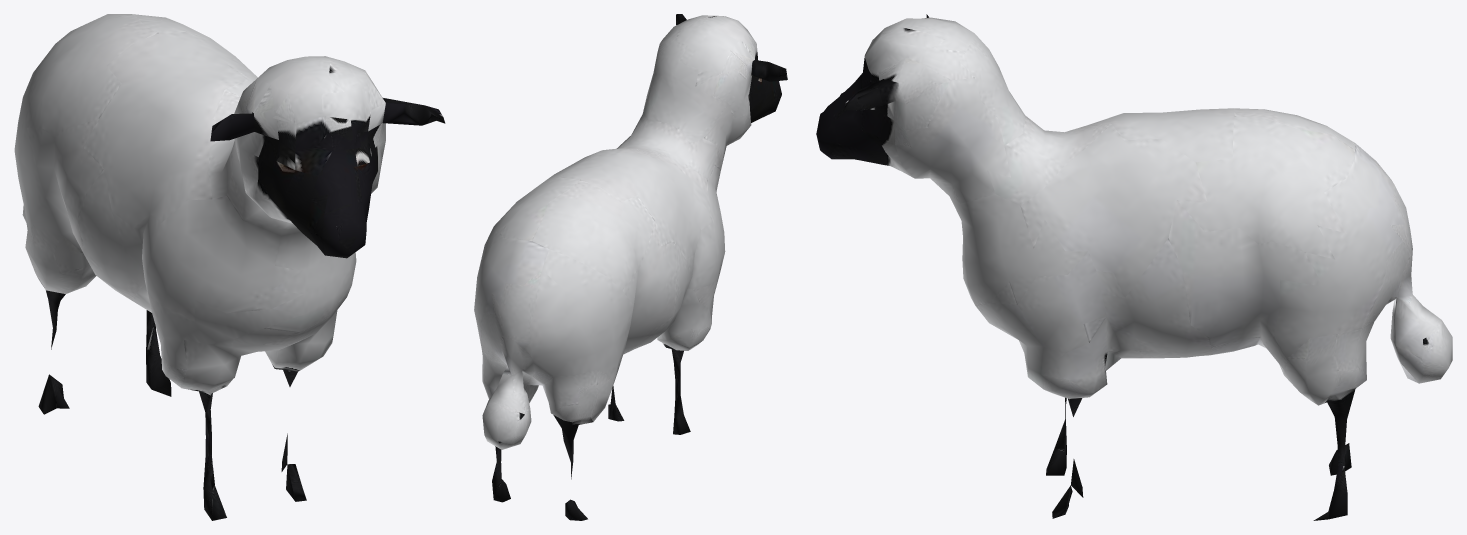
The model's file is sheep.glb.
The picture shows the model from 3 angles, left to right: view 1: azimuth 30°, elevation 25°; view 2: azimuth 150°, elevation 25°; view 3: azimuth 270°, elevation 25°; orthographic projection. The views are drawn at different scales.
Size of the model in its own units: 0.3432 by 0.7642 by 0.9431.
1 material, 1 textured.
